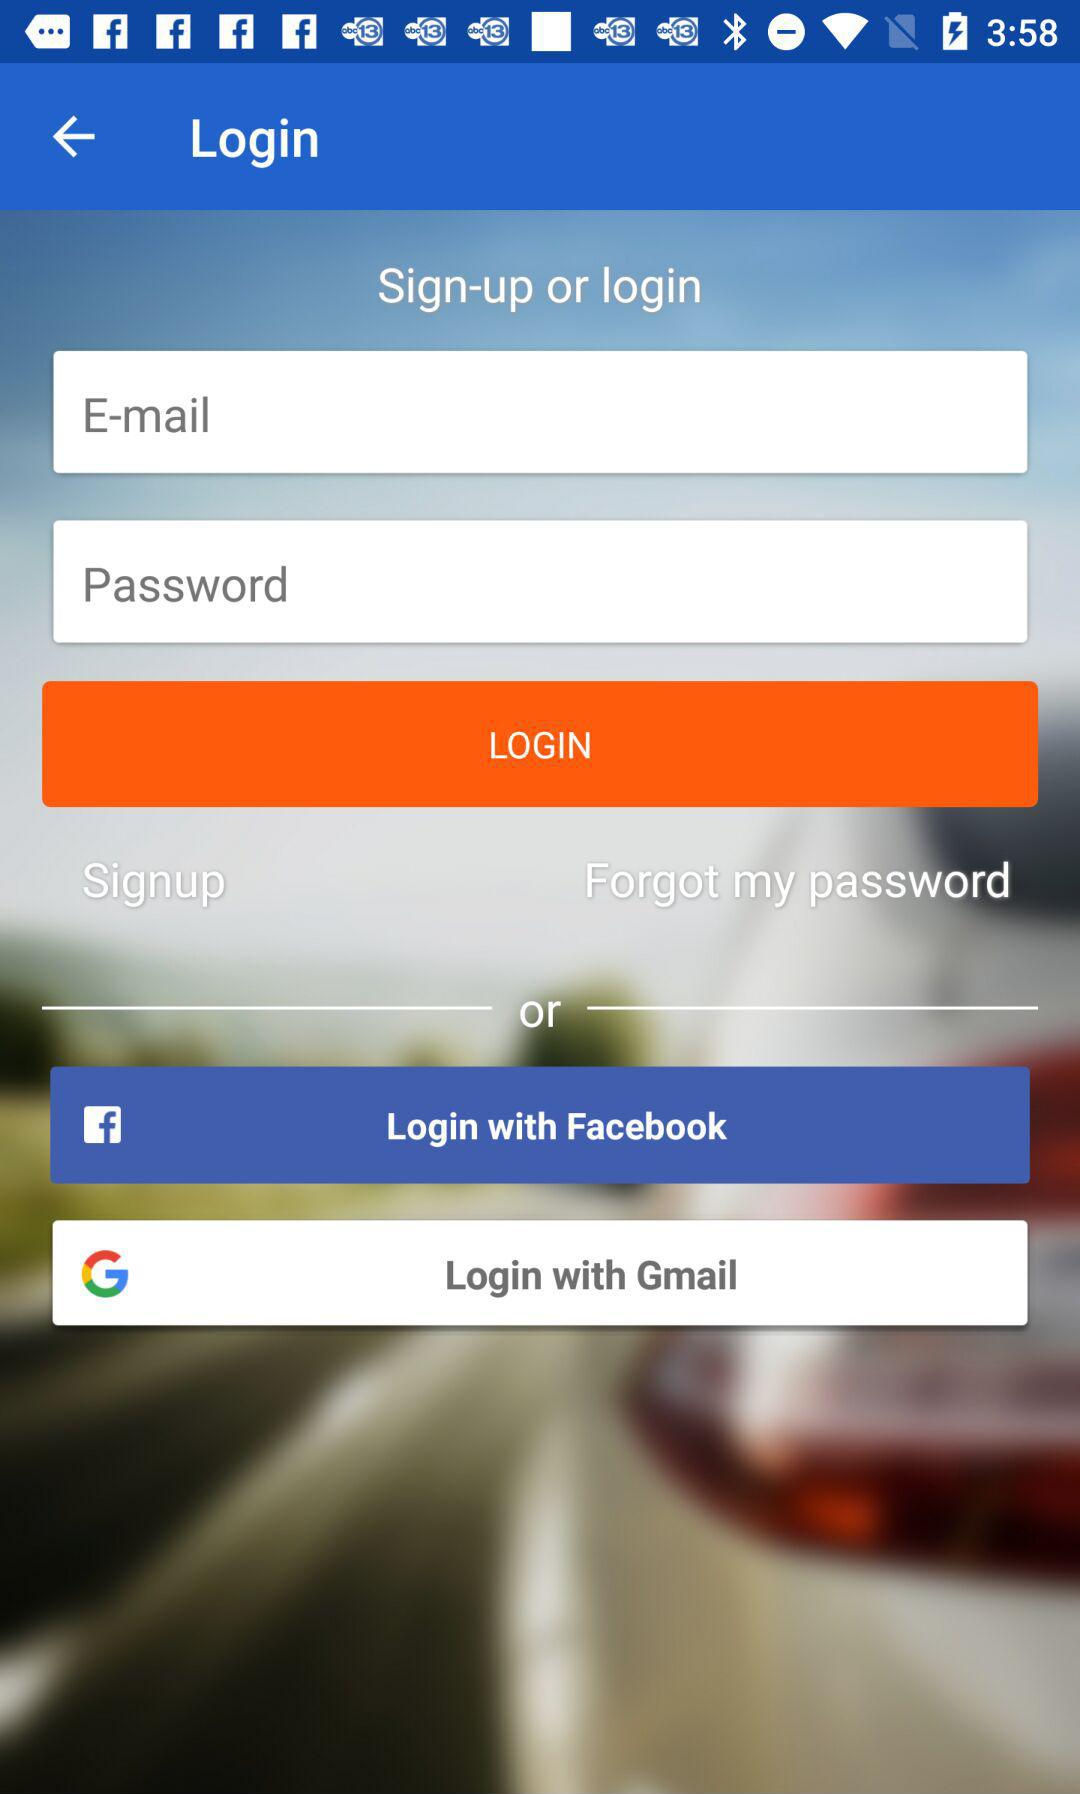BackgroundImage: (1, 211, 1080, 1794)
EditText: (53, 350, 1029, 475), (53, 520, 1027, 645)
Icon: (53, 115, 97, 160)
Text: (585, 860, 1010, 910), (377, 267, 702, 315), (85, 565, 287, 604), (82, 861, 227, 910), (192, 117, 319, 170), (86, 396, 210, 434), (519, 1000, 562, 1030)
TextButton: (42, 680, 1039, 809), (51, 1066, 1030, 1185), (53, 1219, 1029, 1326)
Toolbar: (1, 64, 1080, 211)
UpperTaskBar: (1, 1, 1080, 64)
